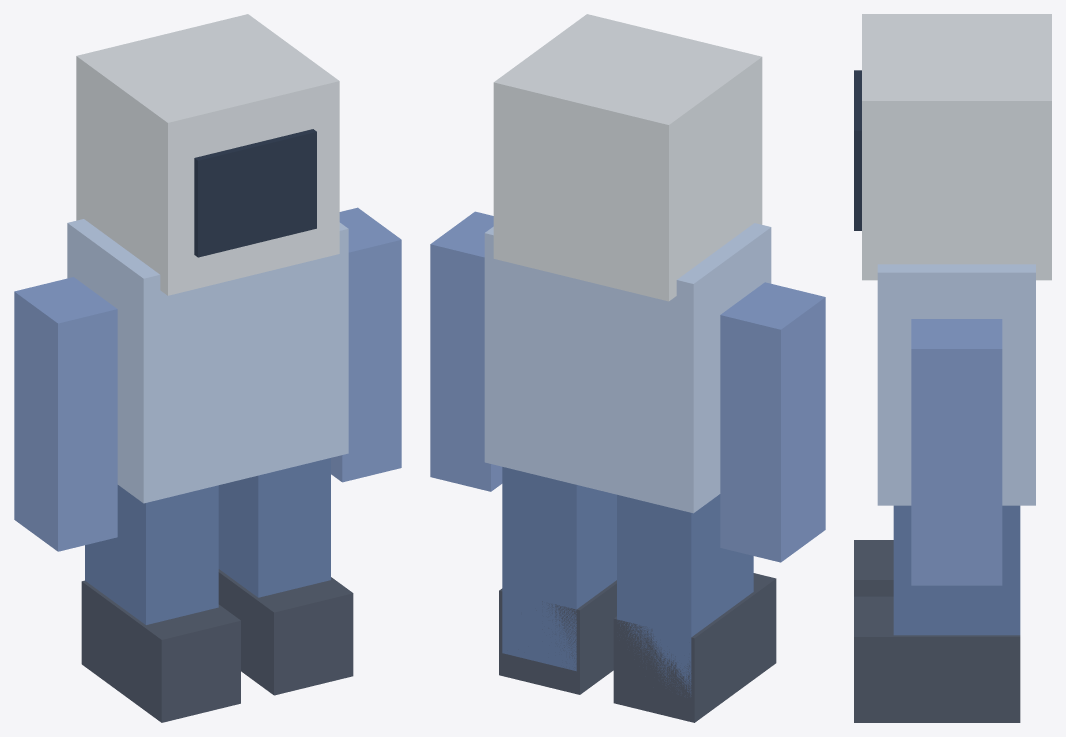
3 renders of one model, left to right at view 1: azimuth 30°, elevation 25°; view 2: azimuth 150°, elevation 25°; view 3: azimuth 270°, elevation 25°, orthographic. The views are drawn at different scales.
Visible parts, largest first — view 1: placeholder_person; view 2: placeholder_person; view 3: placeholder_person.
Boxes of the visible parts, box(x1,y1,x2,y2) form: placeholder_person: box(14, 14, 401, 722); placeholder_person: box(430, 14, 825, 722); placeholder_person: box(854, 14, 1051, 722).
Bounding box in the file's own units: 1.04 × 1.72 × 0.5.
